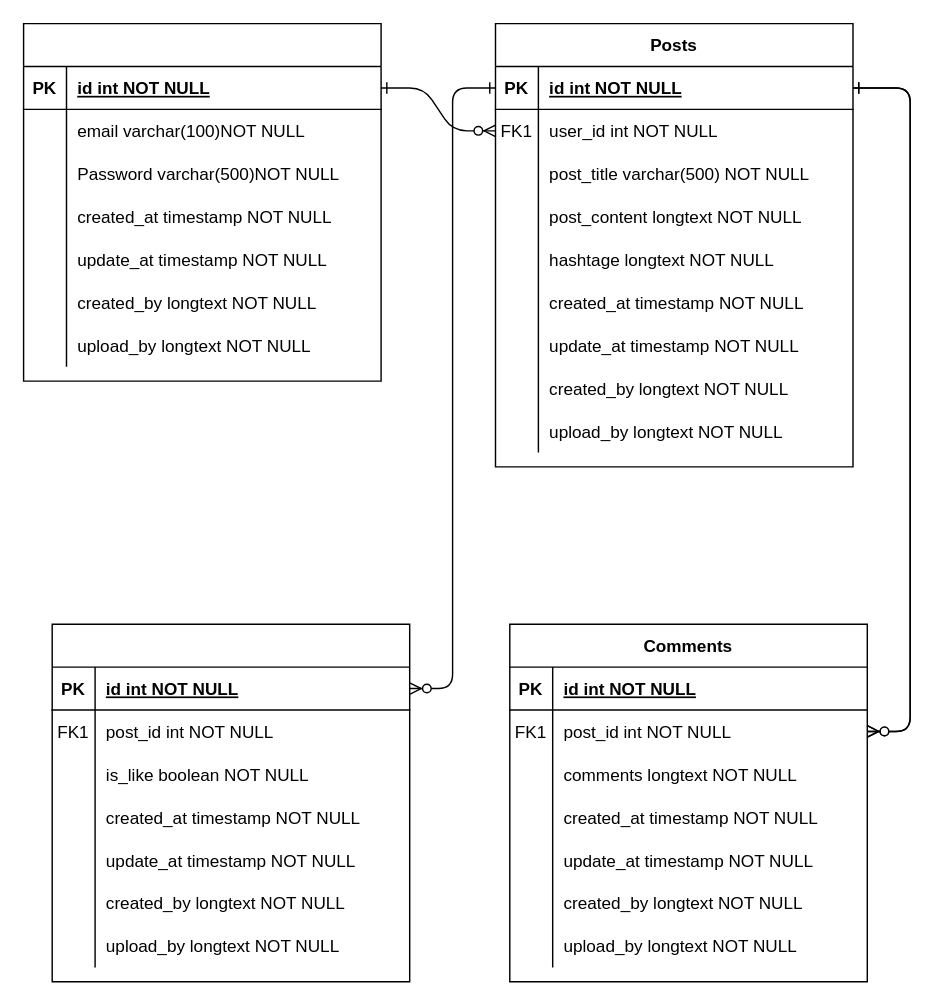
Image size: 934x1005. Some labels were removed from this diagram. Each missing label, with the box of its shape:
User Activities: (51, 623, 410, 982)
Users: (22, 22, 381, 381)
